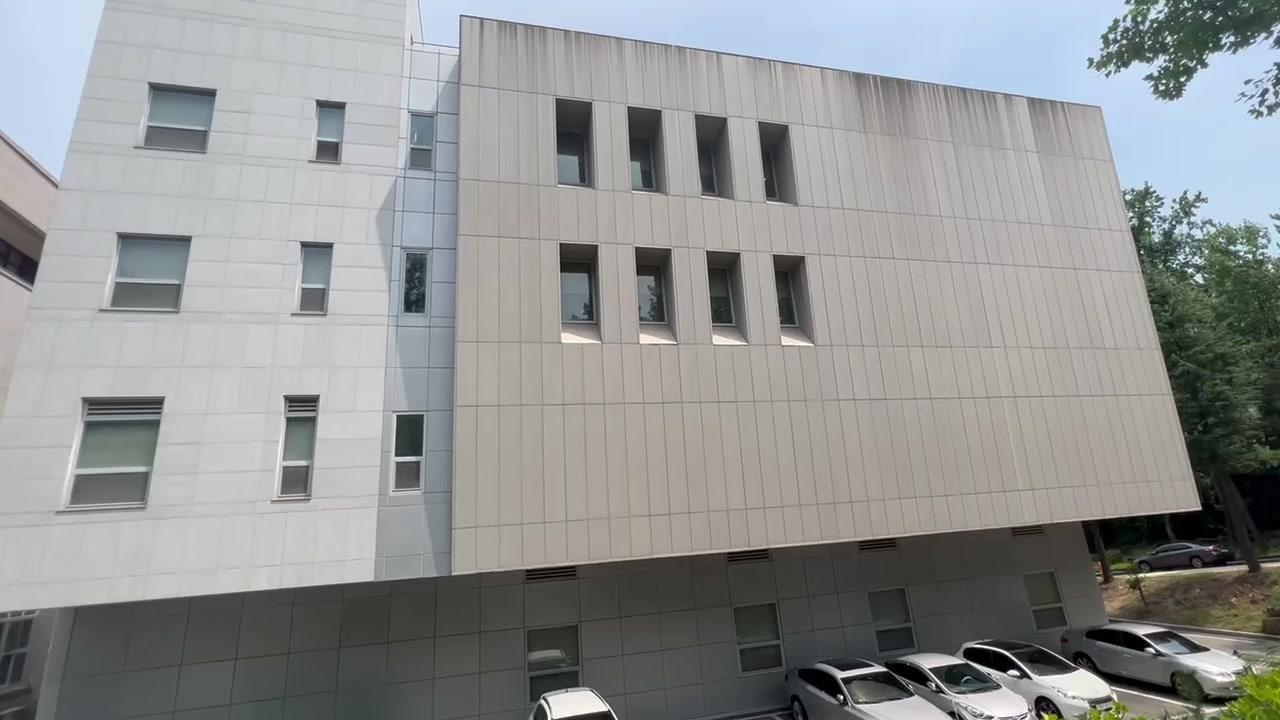building: (48, 0, 1179, 624)
